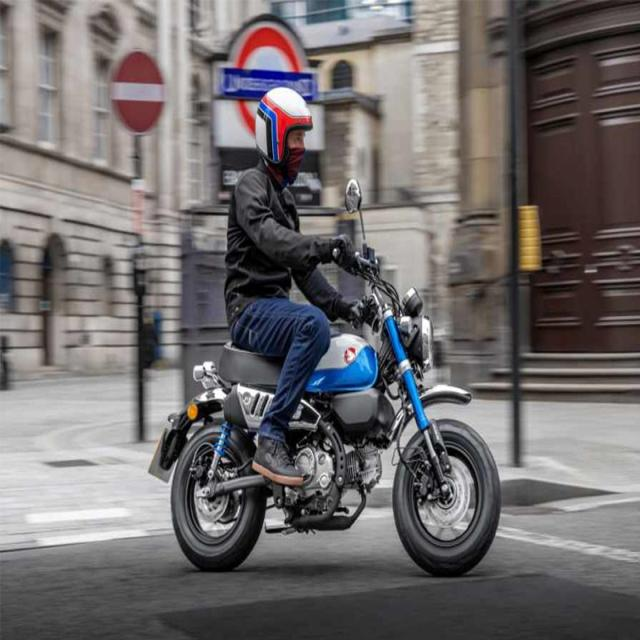Bike: (285, 180, 503, 579), (147, 346, 284, 573)
